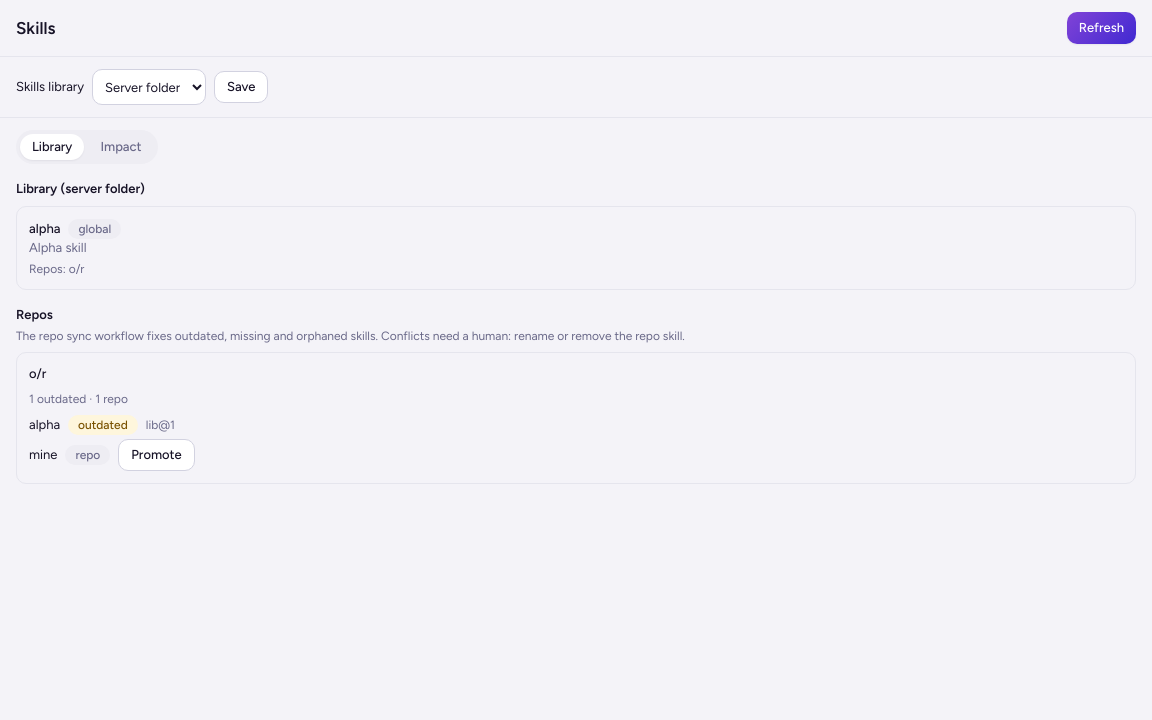
Test: SkillsView › shows API errors in the promote dialog
The width and height of the screenshot is (1152, 720).
Click the button with aria-label "Promote mine": (156, 455) [118,439,195,471]
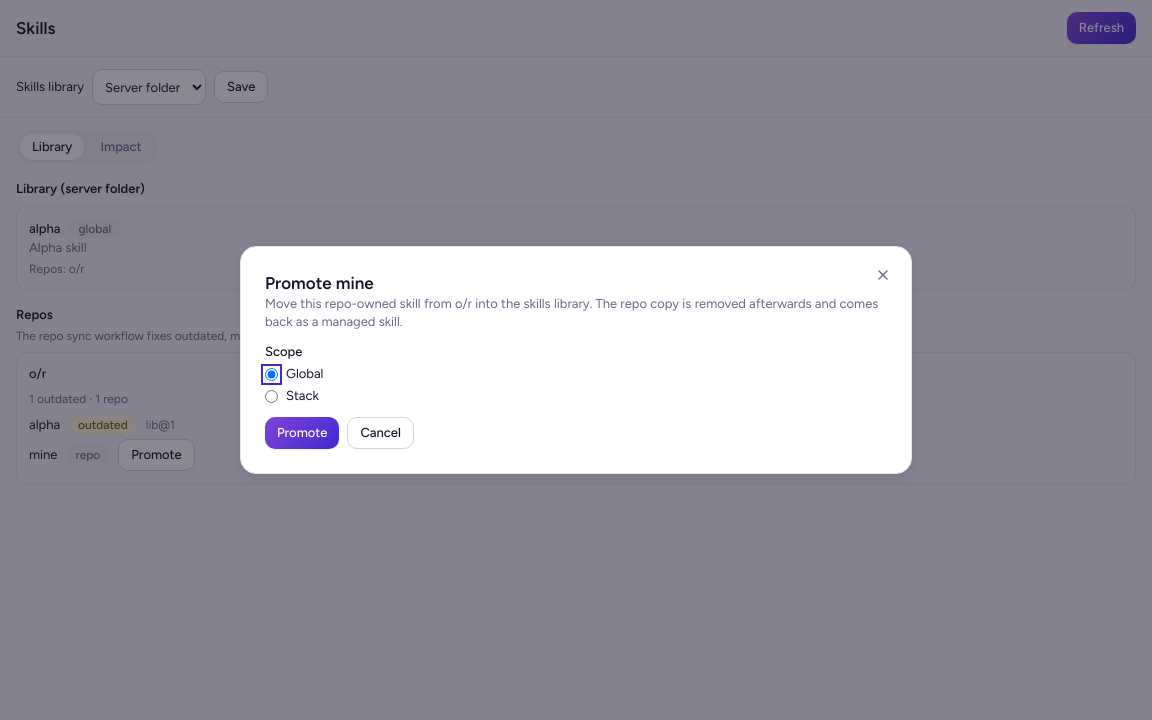
Click the button "Promote": (302, 433) [265,417,339,449]
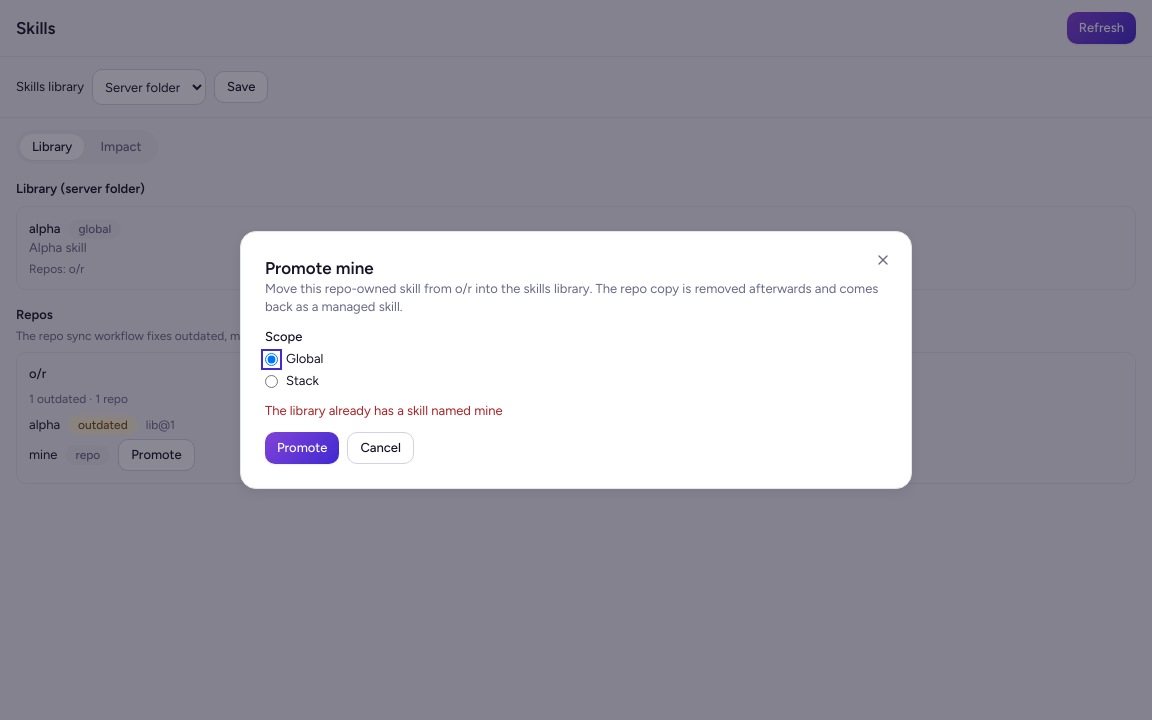
Result: the message shows "already has a skill" at [265,403,503,418]
